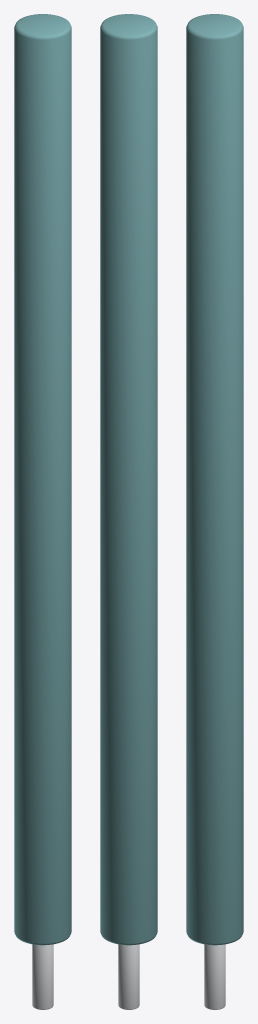
Rendered from Pen.fbx.
3 renders of one model, left to right at view 1: azimuth 90°, elevation 25°; view 2: azimuth 150°, elevation 25°; view 3: azimuth 270°, elevation 25°, orthographic.
Parts seen in each view (by area): view 1: PenBody, PenTip; view 2: PenBody, PenTip; view 3: PenBody, PenTip.
Boxes of the visible parts, box(x1,y1,x2,y2) form: PenBody: box(14, 14, 71, 945); PenTip: box(32, 944, 53, 1009); PenBody: box(100, 14, 157, 945); PenTip: box(118, 944, 139, 1009); PenBody: box(186, 14, 243, 945); PenTip: box(204, 944, 225, 1009).
Size of the model in its own units: 0.008 by 0.151 by 0.008.
